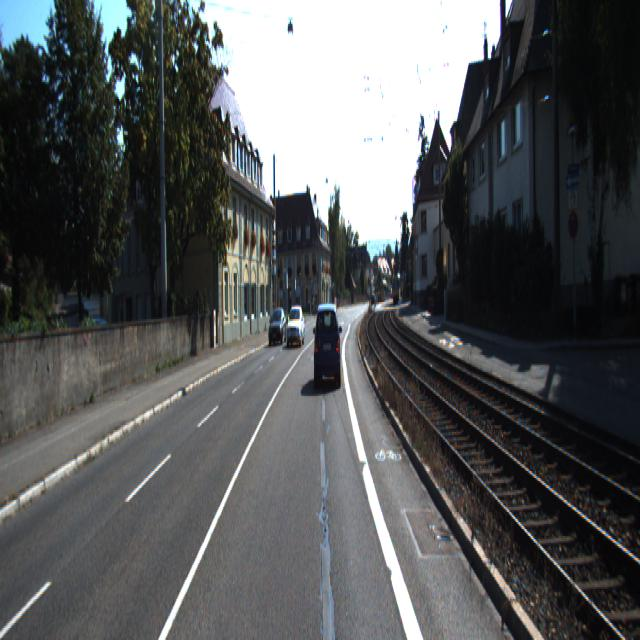Car: (313, 301, 342, 390), (286, 303, 306, 346), (269, 306, 287, 344)
